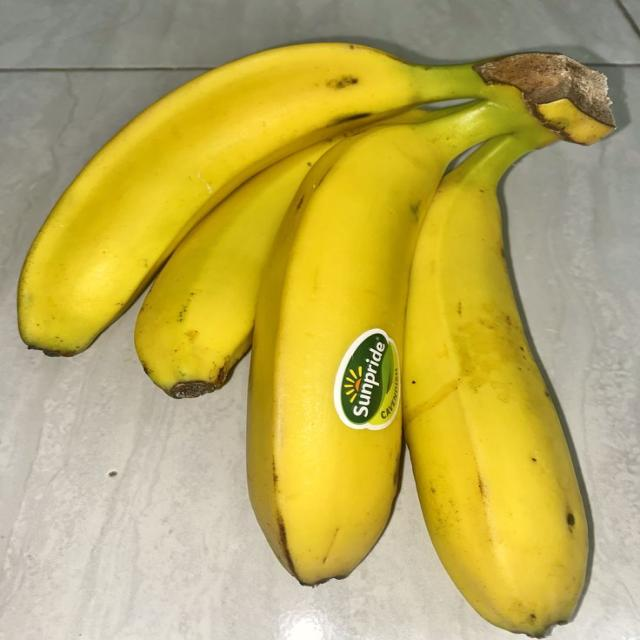unpeal banana: (18, 43, 526, 355), (247, 102, 556, 584), (403, 129, 587, 636), (135, 132, 353, 397)
